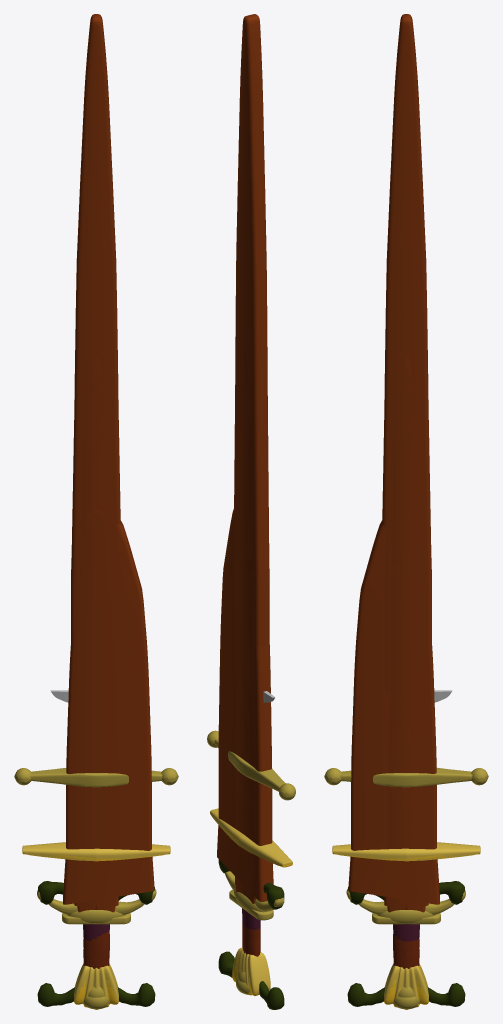
The model's file is SwordsNP04.fbx.
3 views of the same model, side by side, from view 1: azimuth 90°, elevation 25°; view 2: azimuth 210°, elevation 25°; view 3: azimuth 270°, elevation 25° (orthographic).
Parts seen in each view (by area): view 1: SheathFalchion01, SheathGreatsword01, SheathLongsword01, Longsword01, Greatsword01, IronAgeSword01, ShortSword01, BsLongsword01, Falchion01; view 2: SheathGreatsword01, SheathFalchion01, SheathLongsword01, SheathASword01, Longsword01, Greatsword01, SheathShortSword01, IronAgeSword01, SheathDargger01, SheathIASword01, ShortSword01, BsLongsword01 (+1 smaller); view 3: SheathGreatsword01, SheathFalchion01, SheathLongsword01, SheathASword01, Longsword01, Greatsword01, IronAgeSword01, SheathIASword01, SheathShortSword01, SheathDargger01, BsLongsword01, ShortSword01 (+2 smaller).
Boxes of the visible parts, x1,y1,x2,y2 form: SheathFalchion01: (63, 510, 154, 904); SheathGreatsword01: (71, 14, 120, 647); SheathLongsword01: (82, 358, 110, 539); Longsword01: (22, 842, 170, 1000); Greatsword01: (14, 690, 178, 997); IronAgeSword01: (37, 881, 155, 1006); ShortSword01: (67, 910, 125, 1009); BsLongsword01: (22, 852, 170, 1009); Falchion01: (37, 889, 156, 960); SheathGreatsword01: (234, 14, 269, 688); SheathFalchion01: (217, 509, 273, 901); SheathLongsword01: (236, 350, 252, 838); SheathASword01: (235, 507, 256, 899); Longsword01: (210, 808, 292, 993); Greatsword01: (207, 691, 295, 982); SheathShortSword01: (236, 637, 253, 900); IronAgeSword01: (218, 859, 284, 1009); SheathDargger01: (236, 710, 256, 903); SheathIASword01: (235, 515, 253, 887); ShortSword01: (234, 890, 266, 994); BsLongsword01: (210, 813, 292, 995); SheathGreatsword01: (382, 14, 431, 692); SheathFalchion01: (348, 520, 439, 904); SheathLongsword01: (390, 358, 422, 842); SheathASword01: (384, 511, 428, 906); Longsword01: (332, 842, 480, 1000); Greatsword01: (324, 690, 488, 997); IronAgeSword01: (347, 881, 465, 1006); SheathIASword01: (388, 514, 424, 848); SheathShortSword01: (388, 656, 425, 908); SheathDargger01: (387, 728, 425, 912); BsLongsword01: (332, 852, 480, 1009); ShortSword01: (377, 910, 435, 1009).
Size of the model in its own units: 0.0549 by 1.93 by 0.29.
